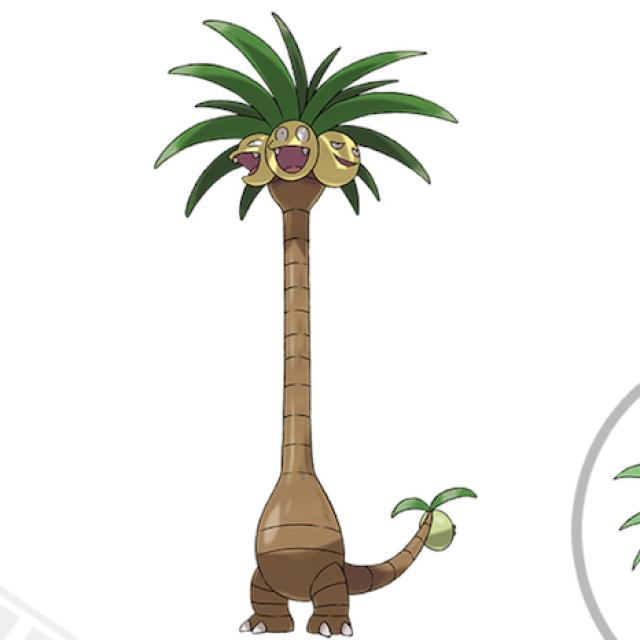Exeggutor: (224, 21, 376, 640)
